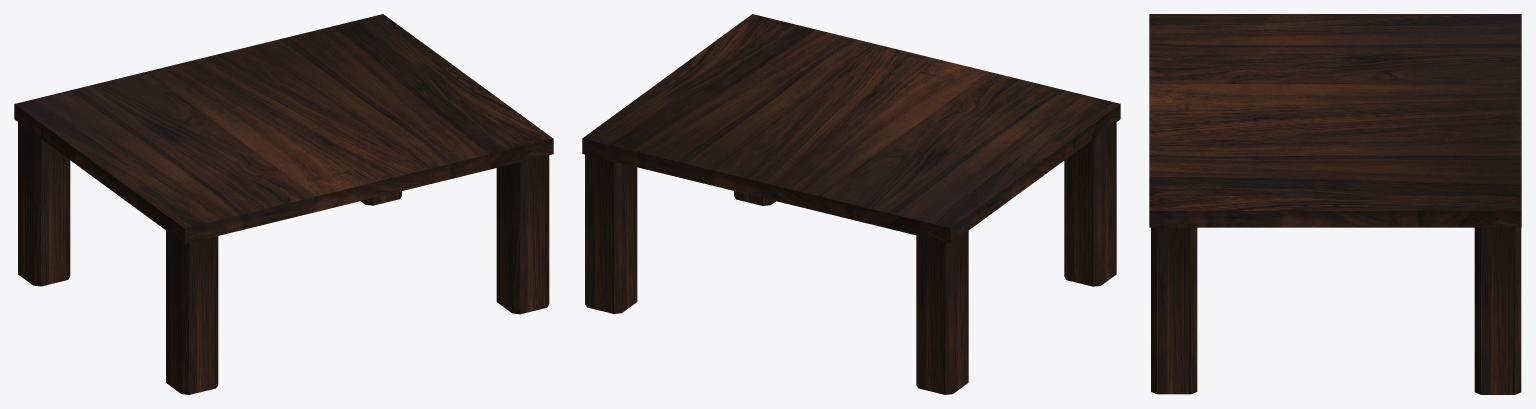
File: Patient_table.FBX
3 views of the same model, side by side, from view 1: azimuth 30°, elevation 25°; view 2: azimuth 150°, elevation 25°; view 3: azimuth 270°, elevation 25° (orthographic). The views are drawn at different scales.
Parts seen in each view (by area): view 1: Top, Legs; view 2: Top, Legs; view 3: Top, Legs.
Boxes of the visible parts, x1,y1,x2,y2 form: Top: [14, 14, 553, 243]; Legs: [18, 122, 549, 394]; Top: [582, 14, 1120, 243]; Legs: [585, 122, 1116, 394]; Top: [1149, 14, 1521, 227]; Legs: [1151, 226, 1521, 394].
Size of the model in its own units: 50.04 by 21.8 by 40.
Materials: 1 (1 with a texture image).
